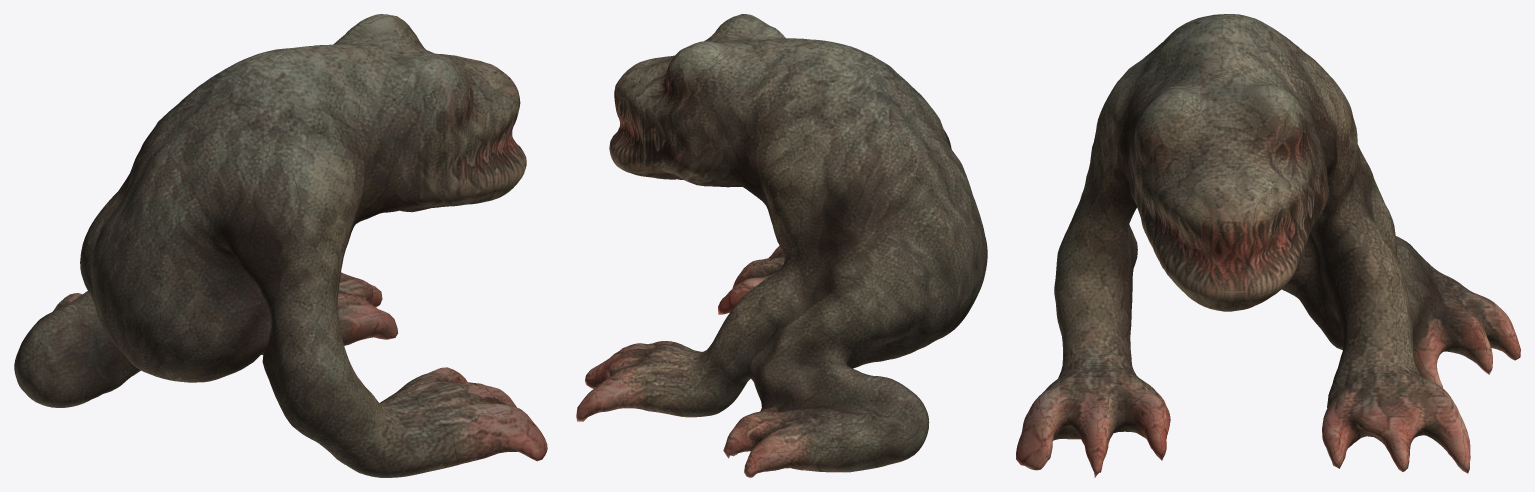
The model's file is monster_croc.glb.
3 renders of one model, left to right at view 1: azimuth 30°, elevation 25°; view 2: azimuth 150°, elevation 25°; view 3: azimuth 270°, elevation 25°, orthographic. The views are drawn at different scales.
Parts seen in each view (by area): view 1: Mesh1; view 2: Mesh1; view 3: Mesh1.
Part boxes in pixels (<box>): Mesh1: <box>14,14,547,477</box>; Mesh1: <box>576,14,987,477</box>; Mesh1: <box>1016,14,1520,477</box>.
Size of the model in its own units: 1.16 by 0.995 by 1.2.
1 material, 1 textured.
